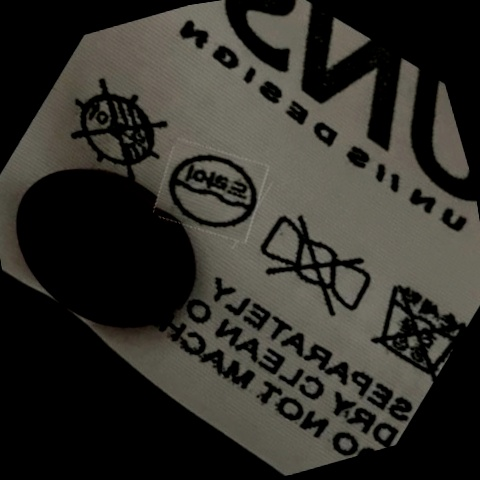DN_dry: (60, 71, 177, 189)
DN_wring: (250, 202, 382, 333)
dry_clean: (159, 138, 265, 246)
hand_wash: (358, 266, 469, 385)
